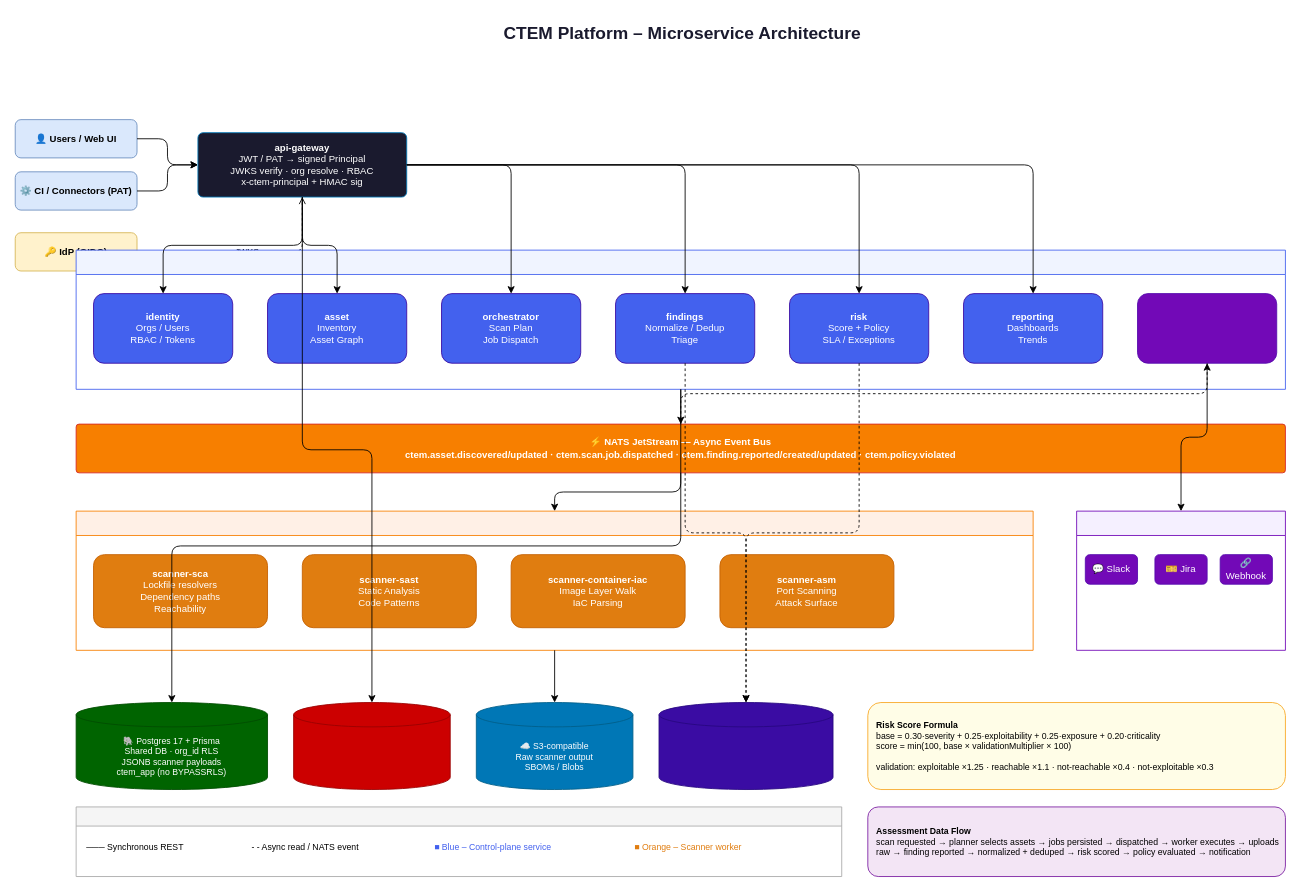
The diagram is 1301 pixels wide and 892 high, and some of its shapes have lost their labels. Each missing label, with the box of its shape:
Control-Plane Services: (75, 249, 1285, 389)
Legend: (75, 806, 842, 877)
Notification Targets: (1076, 510, 1285, 650)
notification-service Slack / Jira / Webhook: (1137, 293, 1277, 363)
Scanner Workers (CPU/IO-heavy · independent scale · sandboxed): (75, 510, 1033, 650)
⚡ Redis Session · Rate-limit Scanner coordination: (293, 702, 450, 790)
📡 Vuln Intelligence OSV · NVD · GHSA EPSS · CISA KEV (not tenant-scoped): (658, 702, 833, 790)
